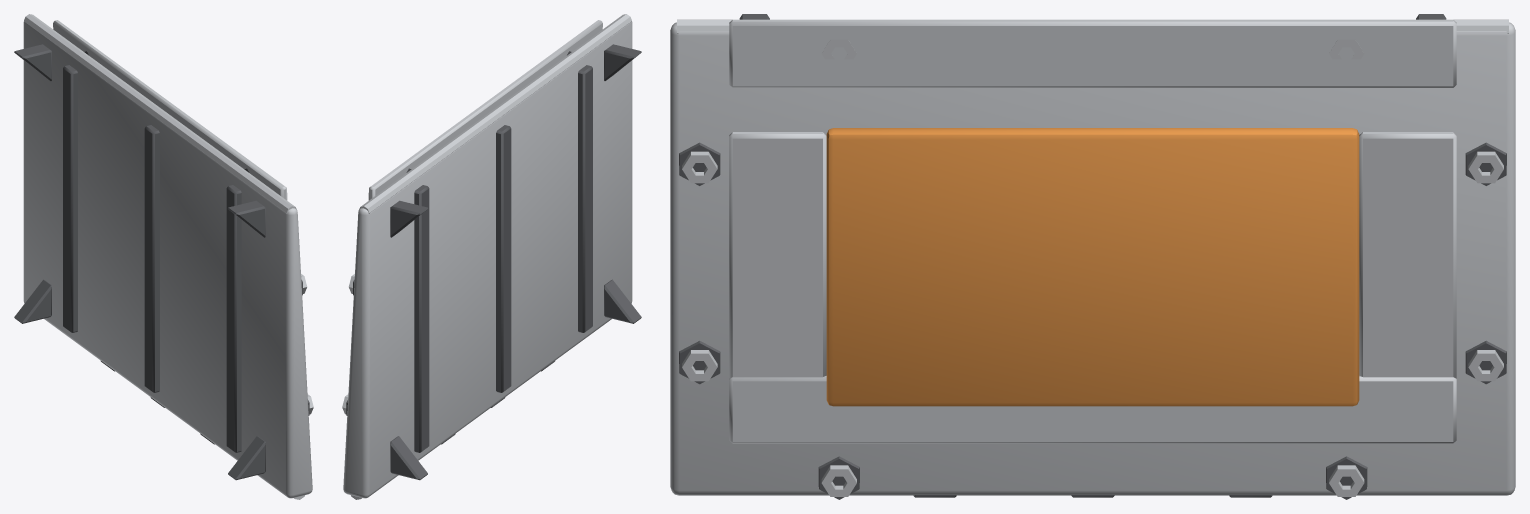
Rendered from plate_sloped.glb.
The picture shows the model from 3 angles, left to right: view 1: azimuth 30°, elevation 25°; view 2: azimuth 150°, elevation 25°; view 3: azimuth 270°, elevation 25°; orthographic projection. The views are drawn at different scales.
Parts seen in each view (by area): view 1: body; view 2: body; view 3: body.
Part boxes in pixels (left/top/right/bottom): body: left=14, top=14, right=313, bottom=499; body: left=342, top=14, right=641, bottom=499; body: left=670, top=14, right=1515, bottom=499.
Bounding box in the file's own units: 0.0708 × 0.3098 × 0.5.
